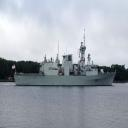Fragata: (13, 28, 117, 88)
